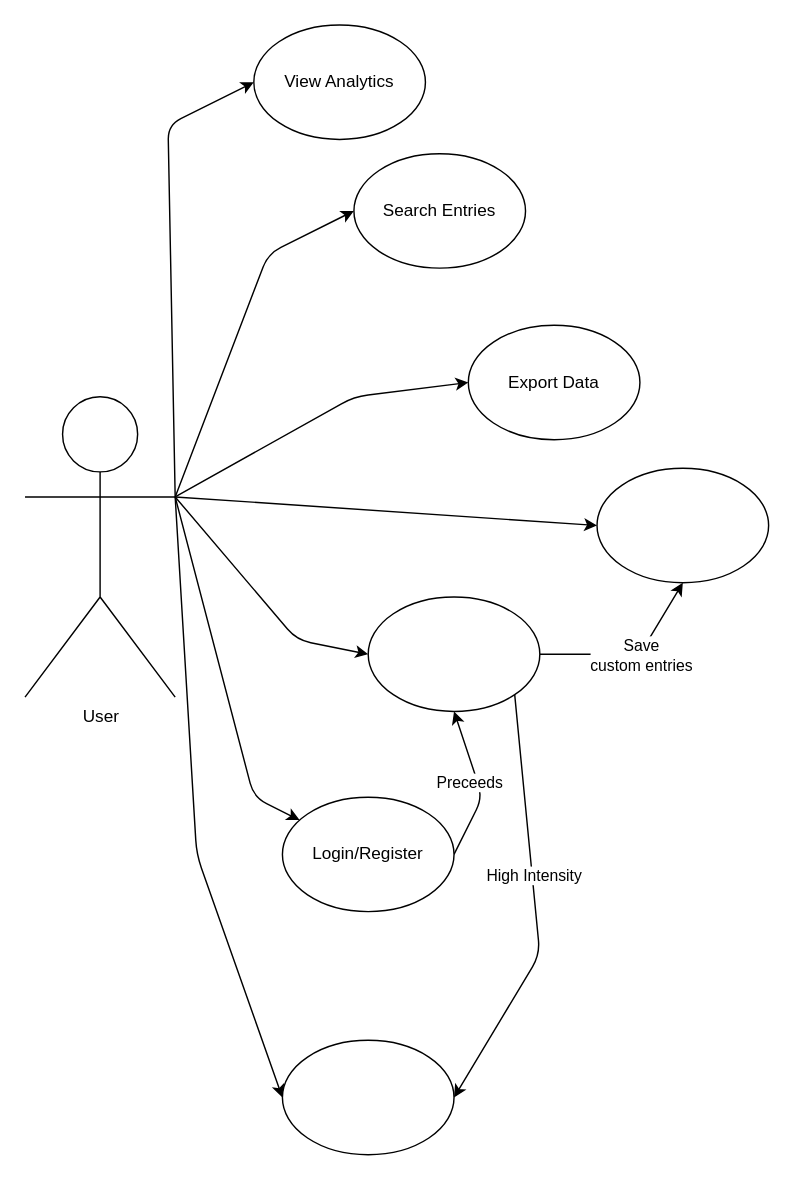
Image size: 794x1180. Some labels were removed from this diagram. The shapes that lost their labels are listed below. From the top down, each one's centre as x and y in pixels, then its label:
(682,525): Manage Profile (Custom emotions).
(453,653): Log Mood Entry
(367,1097): Activate Comfort Mode
